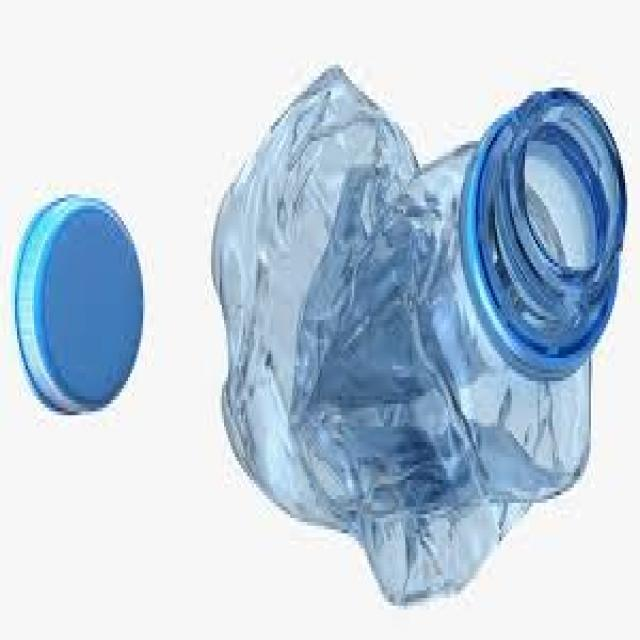BIODEGRADABLE: (207, 55, 631, 613)
